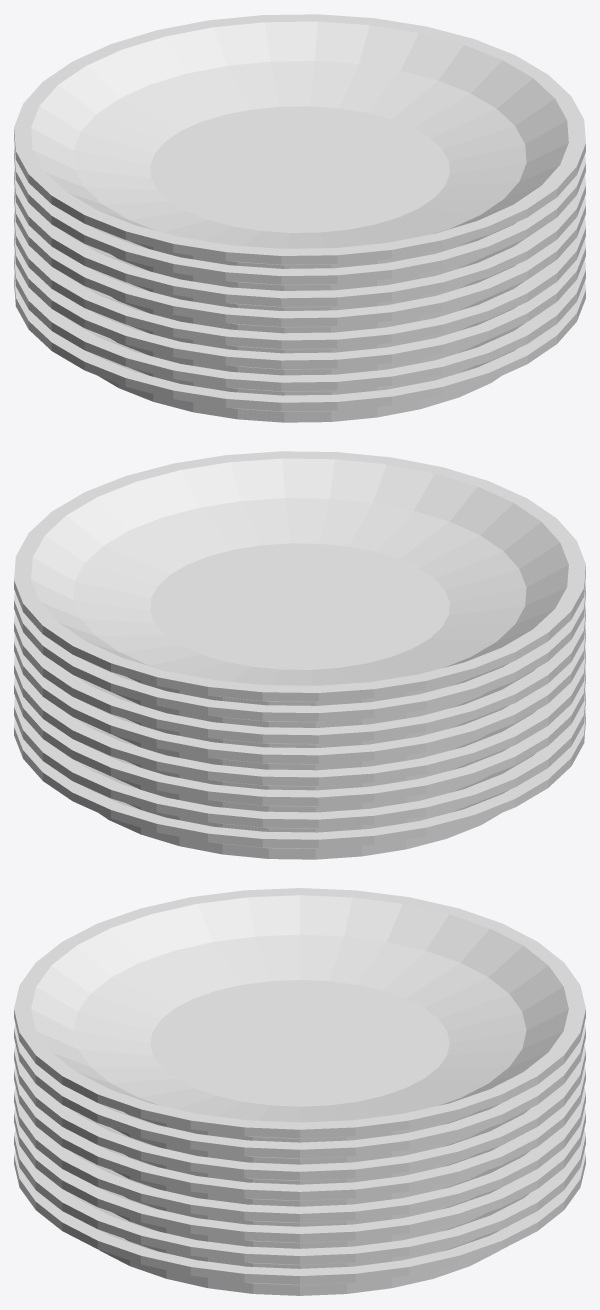
The model's file is Teller.fbx.
The picture shows the model from 3 angles, top to bottom: view 1: azimuth 30°, elevation 25°; view 2: azimuth 150°, elevation 25°; view 3: azimuth 270°, elevation 25°; orthographic projection.
Parts seen in each view (by area): view 1: Cylinder.007; view 2: Cylinder.007; view 3: Cylinder.007.
Boxes of the visible parts, <box> form: Cylinder.007: <box>14,14,585,422</box>; Cylinder.007: <box>14,451,585,859</box>; Cylinder.007: <box>14,888,585,1295</box>.
Size of the model in its own units: 48.78 by 17.45 by 48.78.
